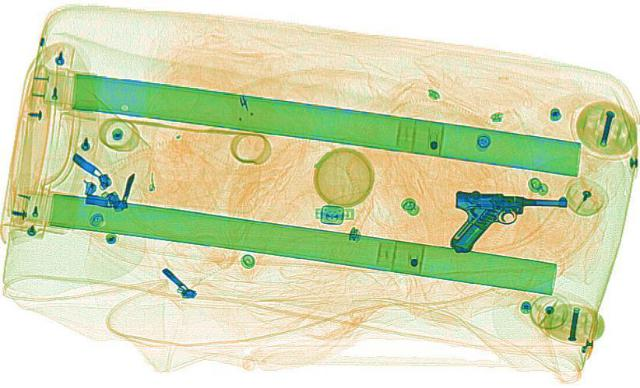Gun: (442, 190, 570, 256)
